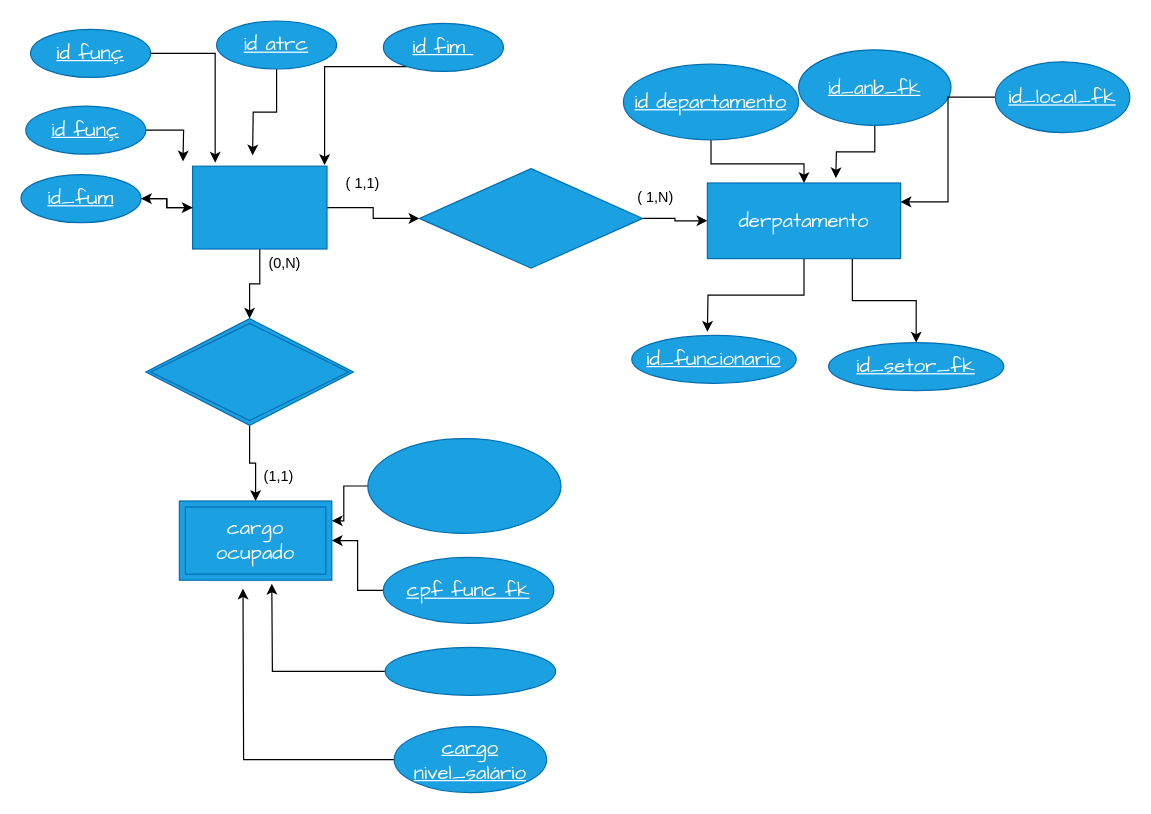
This 1151x814 diagram has some shape labels left out. Here are the shapes that lost their labels. From the top down, the box of each, then its label:
(191, 165, 327, 249): funcionário
(418, 167, 643, 268): trabalha em
(145, 317, 353, 425): ocucupa
(367, 437, 561, 533): id_cargo_ocupado
(384, 646, 556, 695): data_fim
